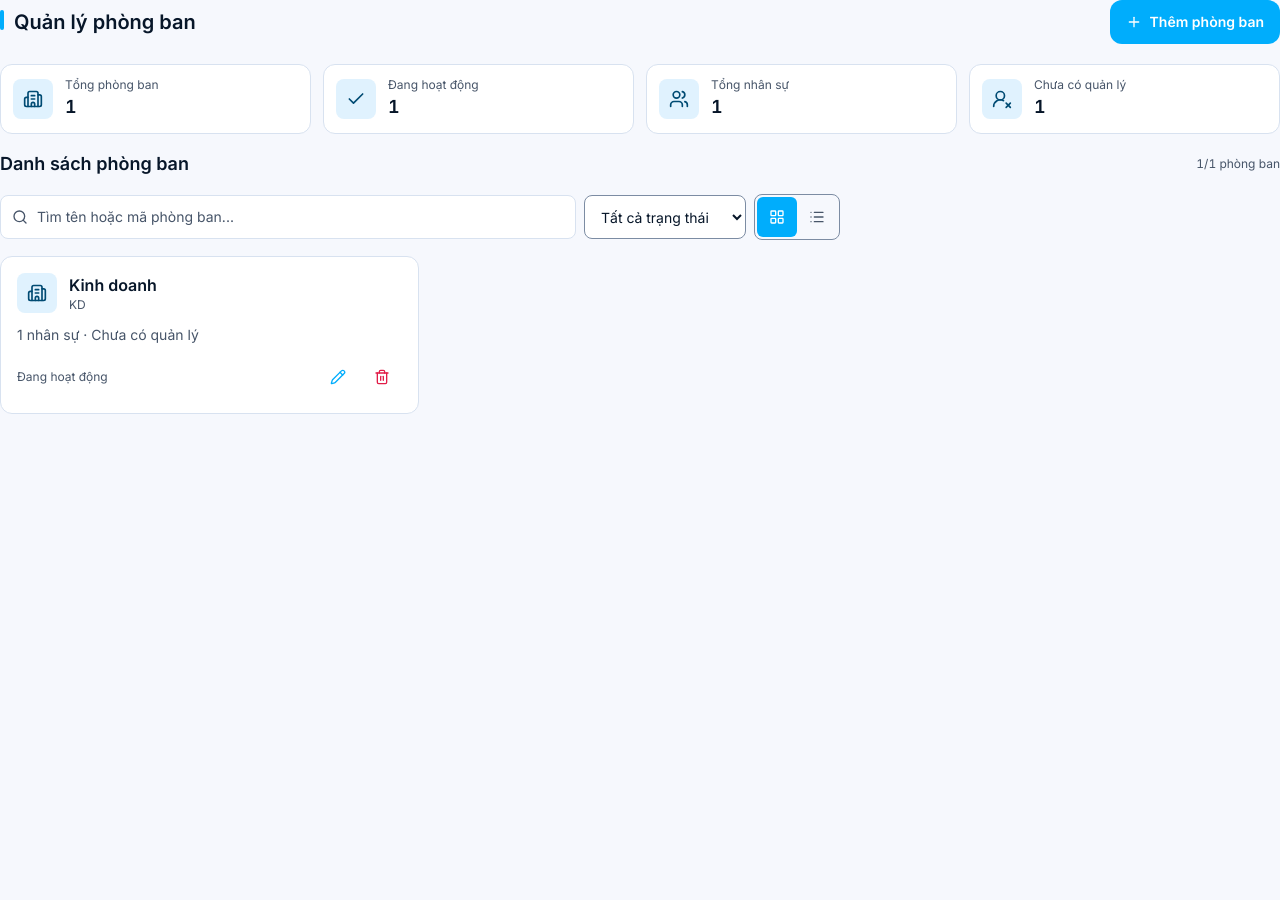
Test: HrDepartmentManager inline presentation › opens department editing in a centered popup
This screenshot has width=1280, height=900.
Click the button named "Sửa Kinh doanh" at [338, 377], box left=318, top=357, right=358, bottom=397
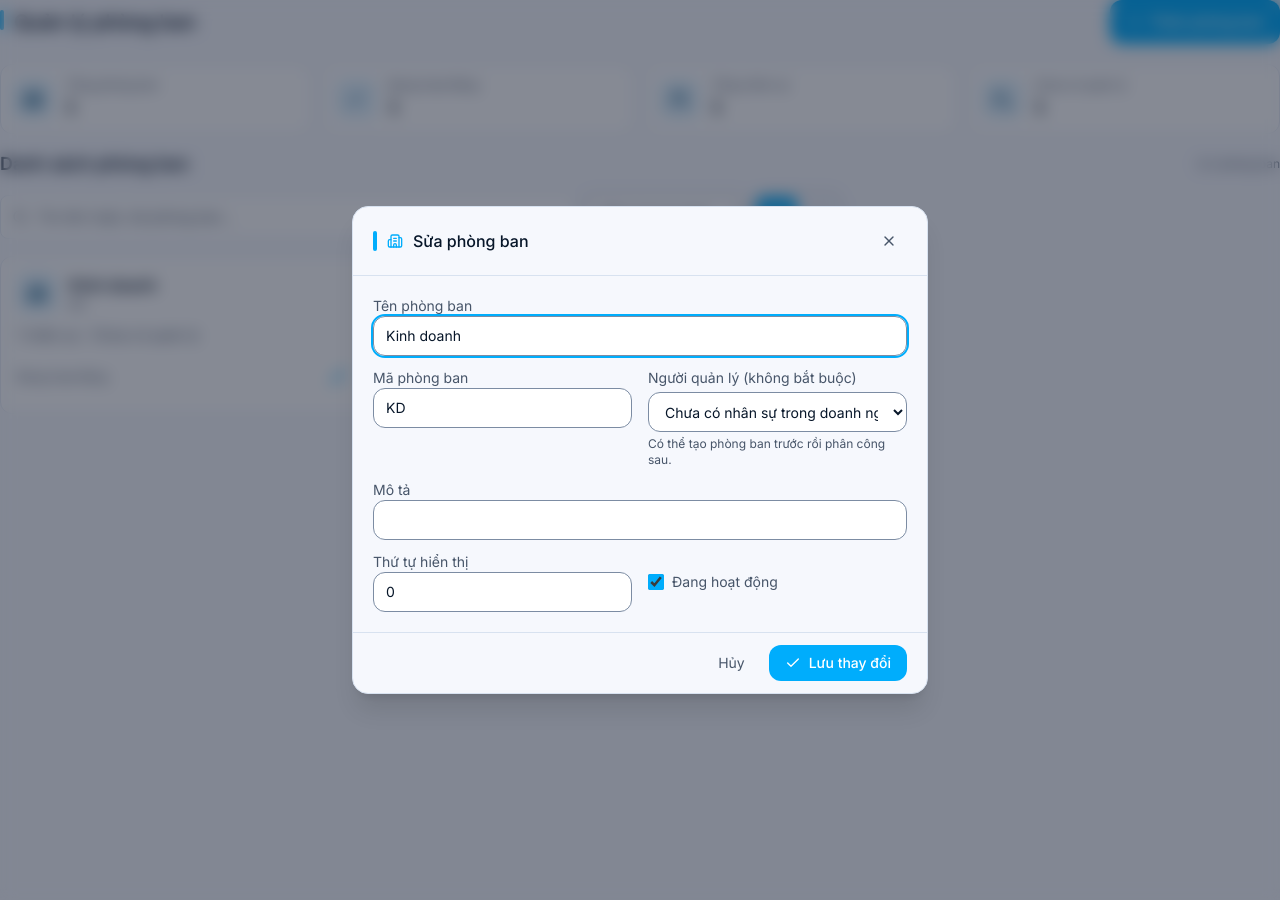
Now the field labelled "Tên phòng ban" is shown
Now the field labelled "Mã phòng ban" is shown, box left=373, top=388, right=632, bottom=428
Now the dropdown labelled "Người quản lý (không bắt buộc)" is shown, box left=648, top=392, right=907, bottom=432
Replace the text in the field labelled "Tên phòng ban" with "Kinh doanh mới" at [640, 336], box left=373, top=316, right=907, bottom=356
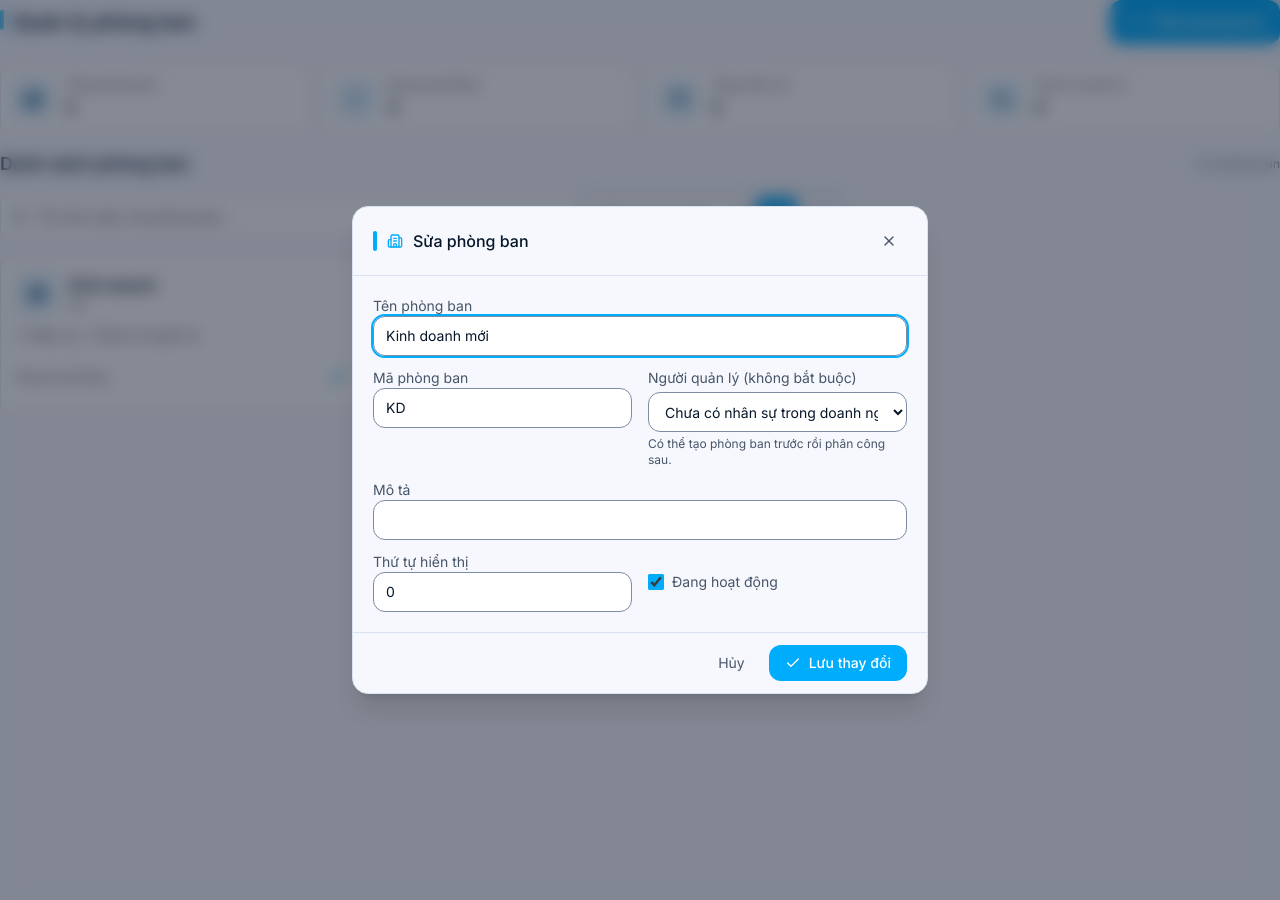
Click the button "Lưu thay đổi" at [838, 663], box left=769, top=645, right=907, bottom=681
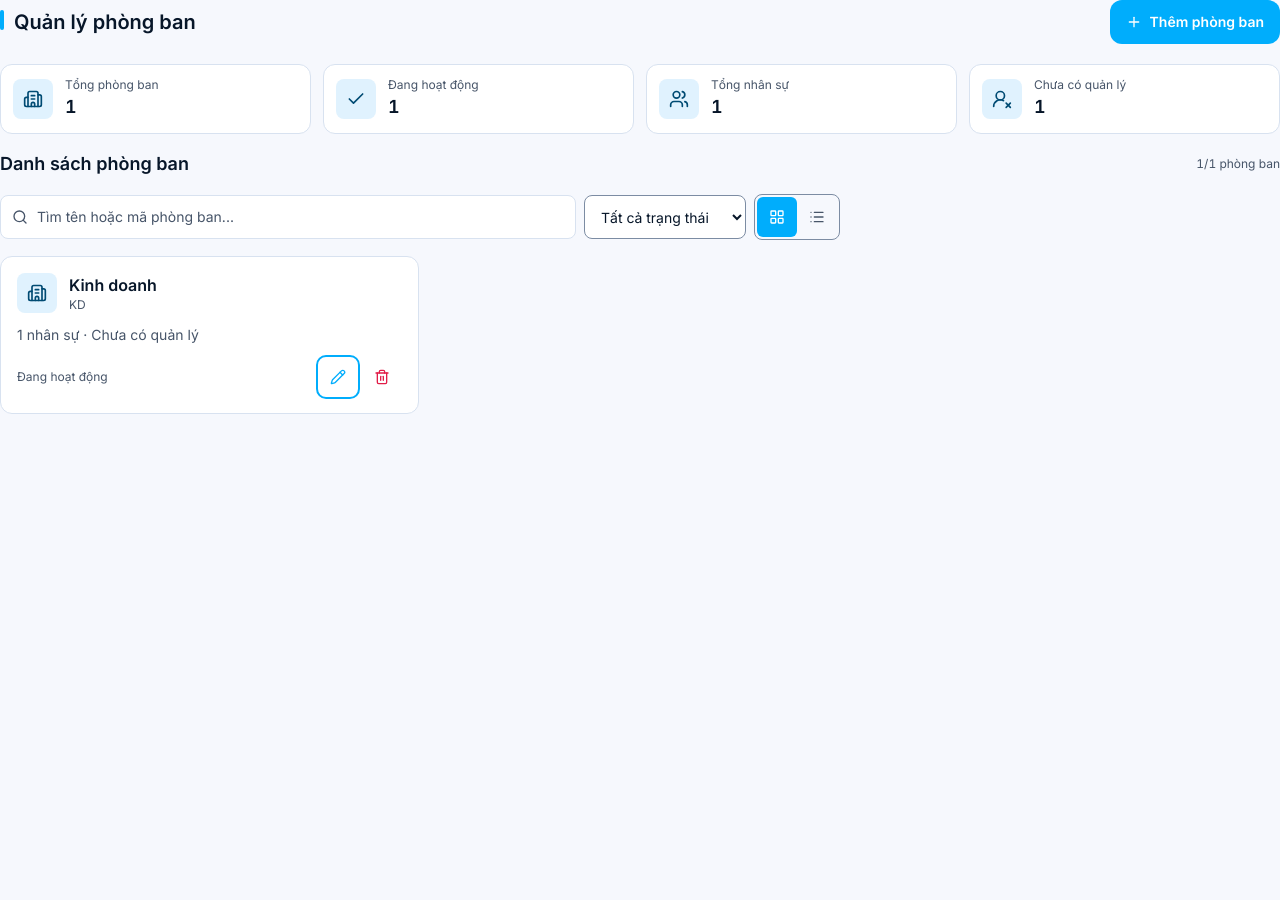
Now the heading "Sửa phòng ban" is gone
